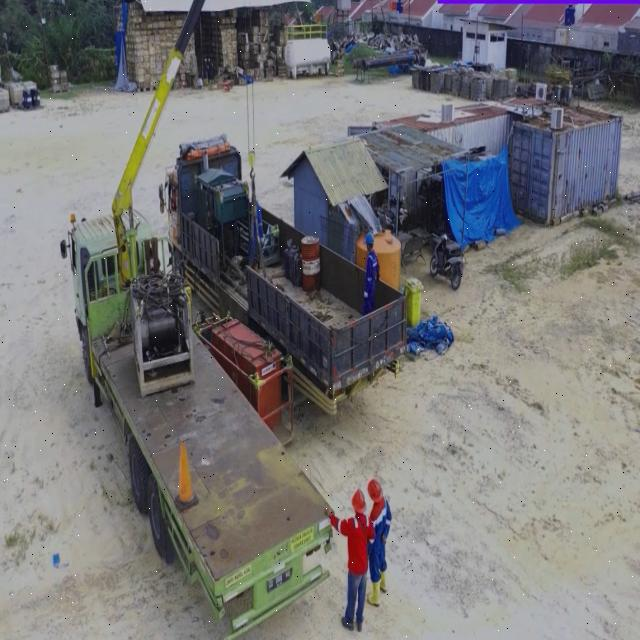Hardhat: (352, 486, 368, 510), (368, 471, 382, 496), (363, 231, 375, 247)
No Glove: (324, 505, 331, 517)
No Overall Suit: (331, 514, 374, 618), (362, 253, 379, 316)
Overall Suit: (369, 499, 391, 579)
Safety Boots: (367, 581, 381, 608), (380, 569, 388, 593)
